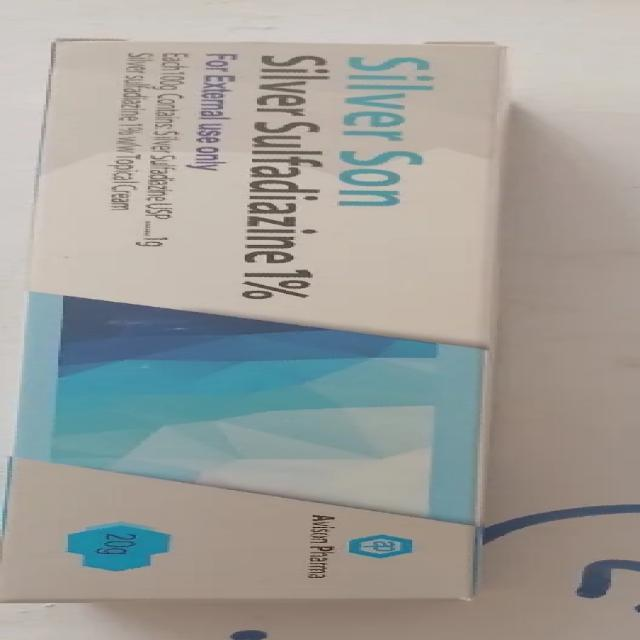drug-name: (337, 47, 432, 209)
